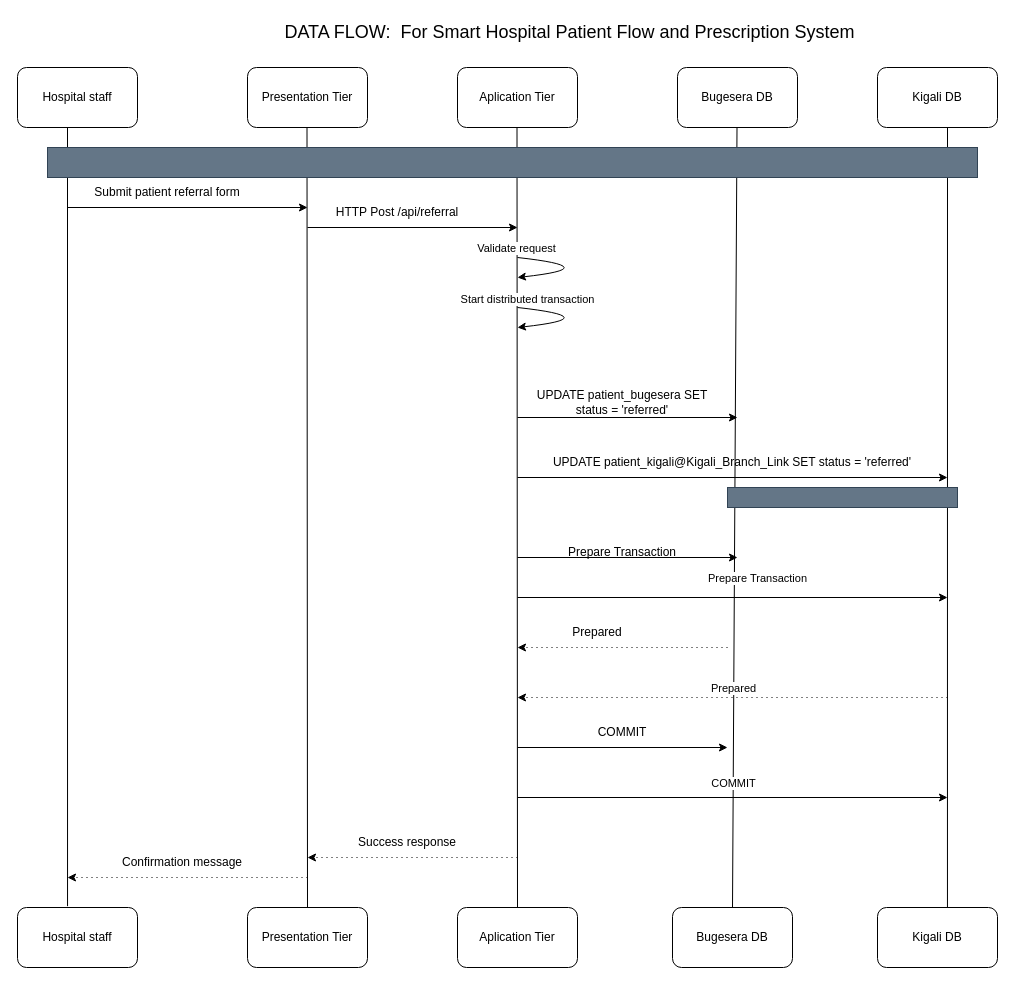
The diagram is 1015 pixels wide and 985 high, and some of its shapes have lost their labels. Here are the shapes that lost their labels. From the top down, the centre of each, then its label:
At pixel 512 162: "SCENARIO: Cross-Branch patient referral".
At pixel 842 497: "Two Phase Comit (2PC)".
